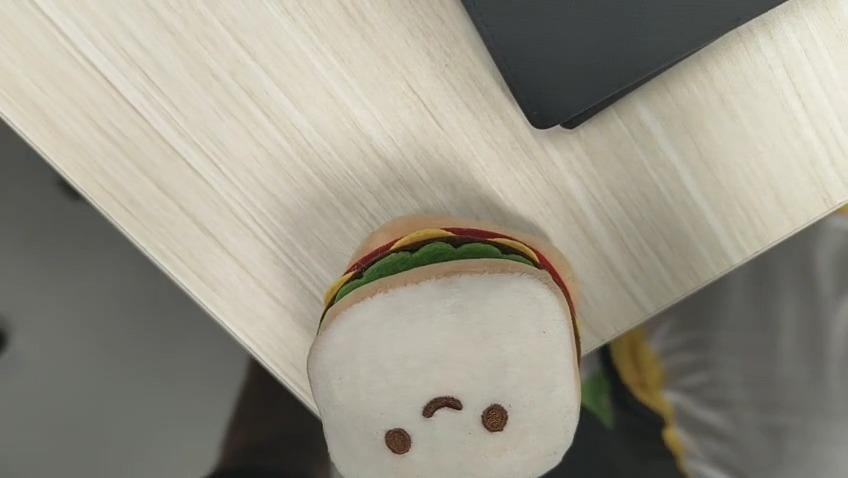objects: (304, 219, 585, 478)
